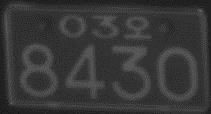0: (155, 44, 199, 102), (58, 13, 87, 39)
3: (110, 45, 151, 101), (90, 14, 120, 39)
4: (64, 44, 105, 99)
8: (18, 42, 59, 98)
오: (122, 15, 151, 39)
